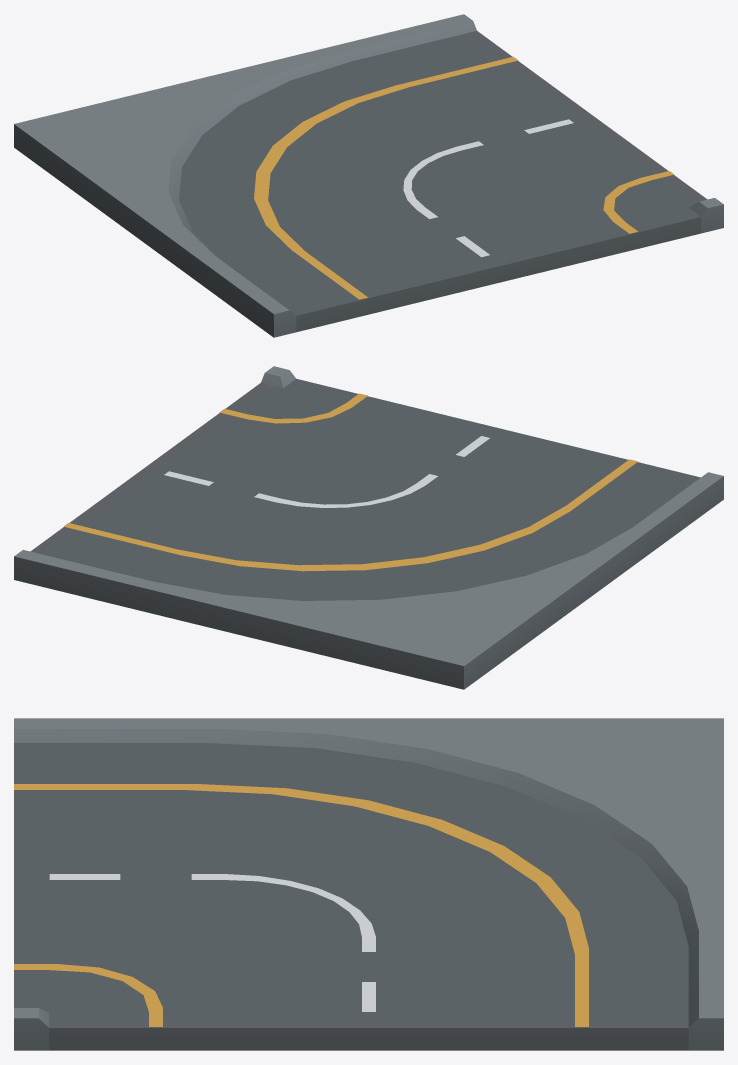
3 renders of one model, top to bottom at view 1: azimuth 30°, elevation 25°; view 2: azimuth 150°, elevation 25°; view 3: azimuth 270°, elevation 25°, orthographic. The views are drawn at different scales.
Visible parts, largest first — view 1: road_corner_curved; view 2: road_corner_curved; view 3: road_corner_curved.
Boxes of the visible parts, bbox=[...] form: road_corner_curved: bbox=[14, 14, 723, 337]; road_corner_curved: bbox=[14, 366, 723, 689]; road_corner_curved: bbox=[14, 718, 723, 1050].
Size of the model in its own units: 2 by 0.1 by 2.
Materials: 1 (1 with a texture image).
